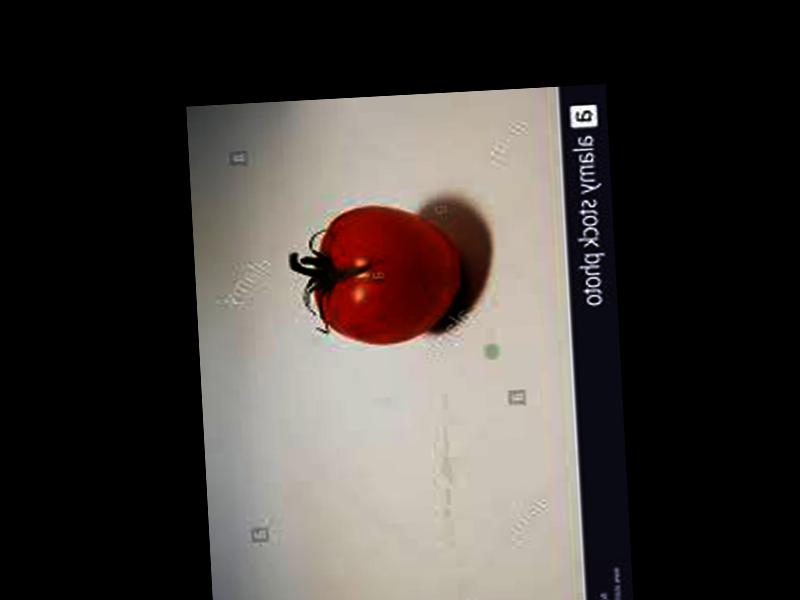Tomato: (312, 203, 466, 347)
